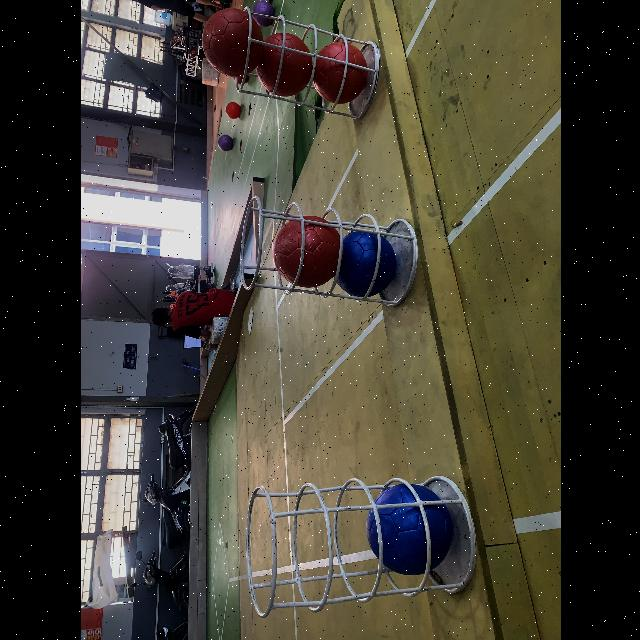B: (365, 483, 451, 575), (337, 230, 395, 298)
R: (272, 215, 338, 288), (200, 8, 262, 76), (254, 33, 312, 97), (313, 42, 367, 104)
